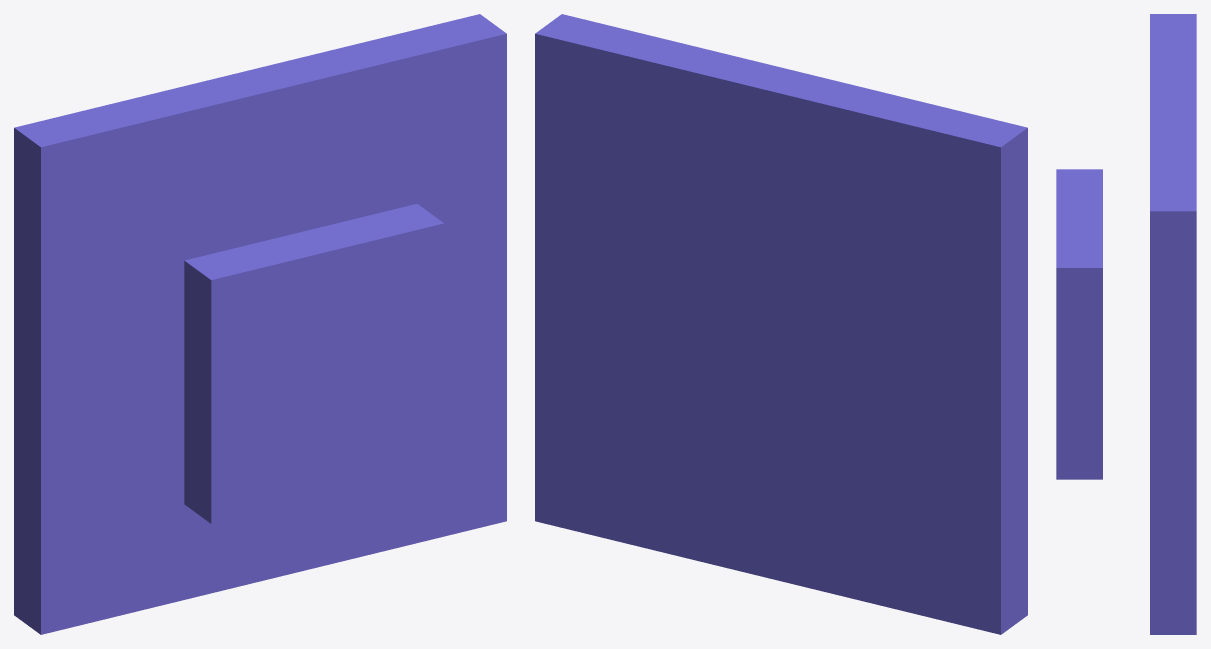
File: maxpool2d.glb
3 views of the same model, side by side, from view 1: azimuth 30°, elevation 25°; view 2: azimuth 150°, elevation 25°; view 3: azimuth 270°, elevation 25° (orthographic). The views are drawn at different scales.
Visible parts, largest first — view 1: Layer.001, Layer.002; view 2: Layer.001; view 3: Layer.001, Layer.002.
Part boxes in pixels (bbox=[...]): Layer.001: bbox=[14, 14, 506, 634]; Layer.002: bbox=[184, 203, 444, 523]; Layer.001: bbox=[535, 14, 1027, 634]; Layer.001: bbox=[1150, 14, 1196, 634]; Layer.002: bbox=[1056, 169, 1102, 479].
Size of the model in its own units: 100 by 100 by 30.
